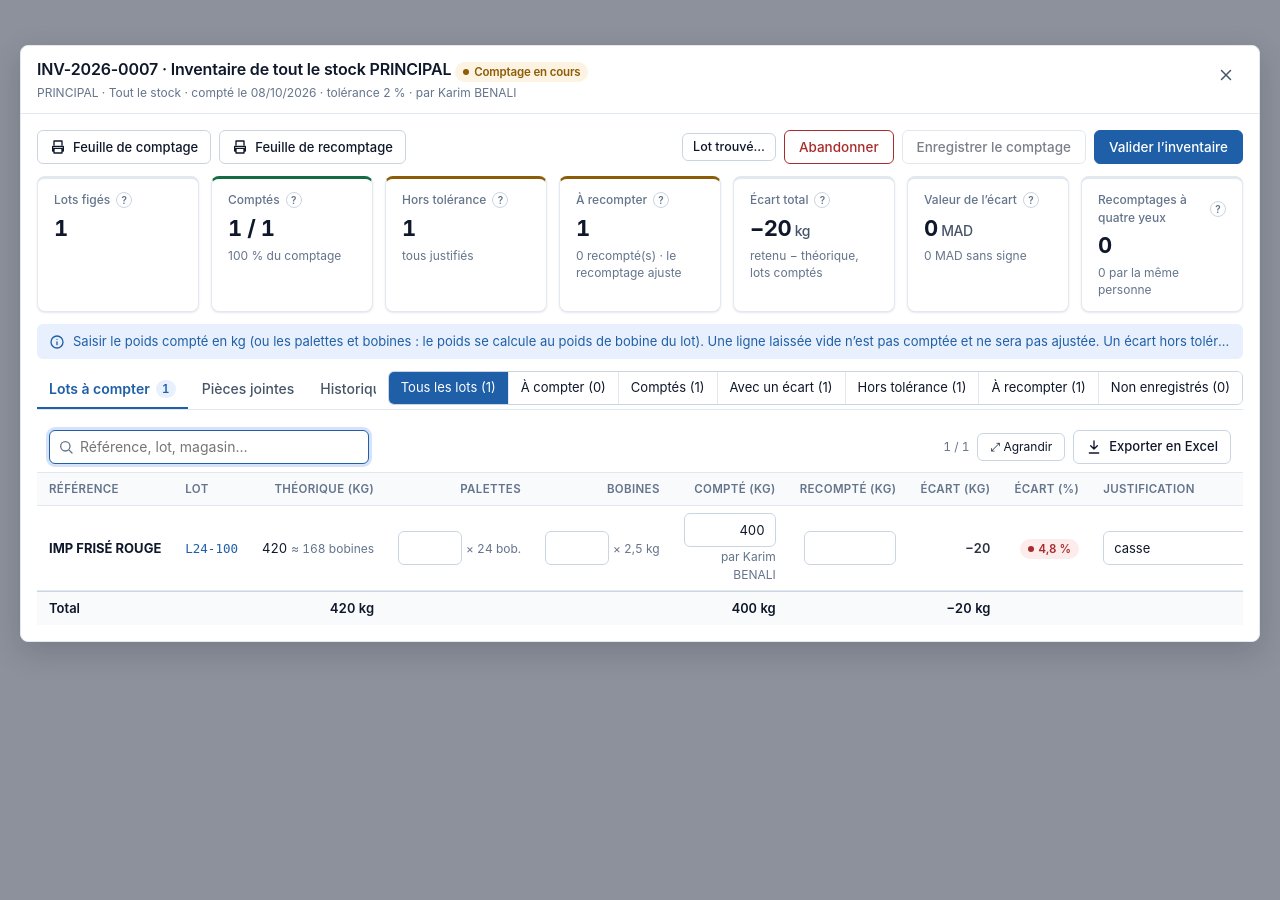
Test: Inventaire : le comptage › un recomptage par la même personne est signalé (ligne, indicateur, confirmation), pas refusé
Type "402" into the field named "Recompté (kg) de IMP FRISÉ ROUGE, lot L24-100" at (850,548), box top-left (804, 531), bottom-right (896, 565)
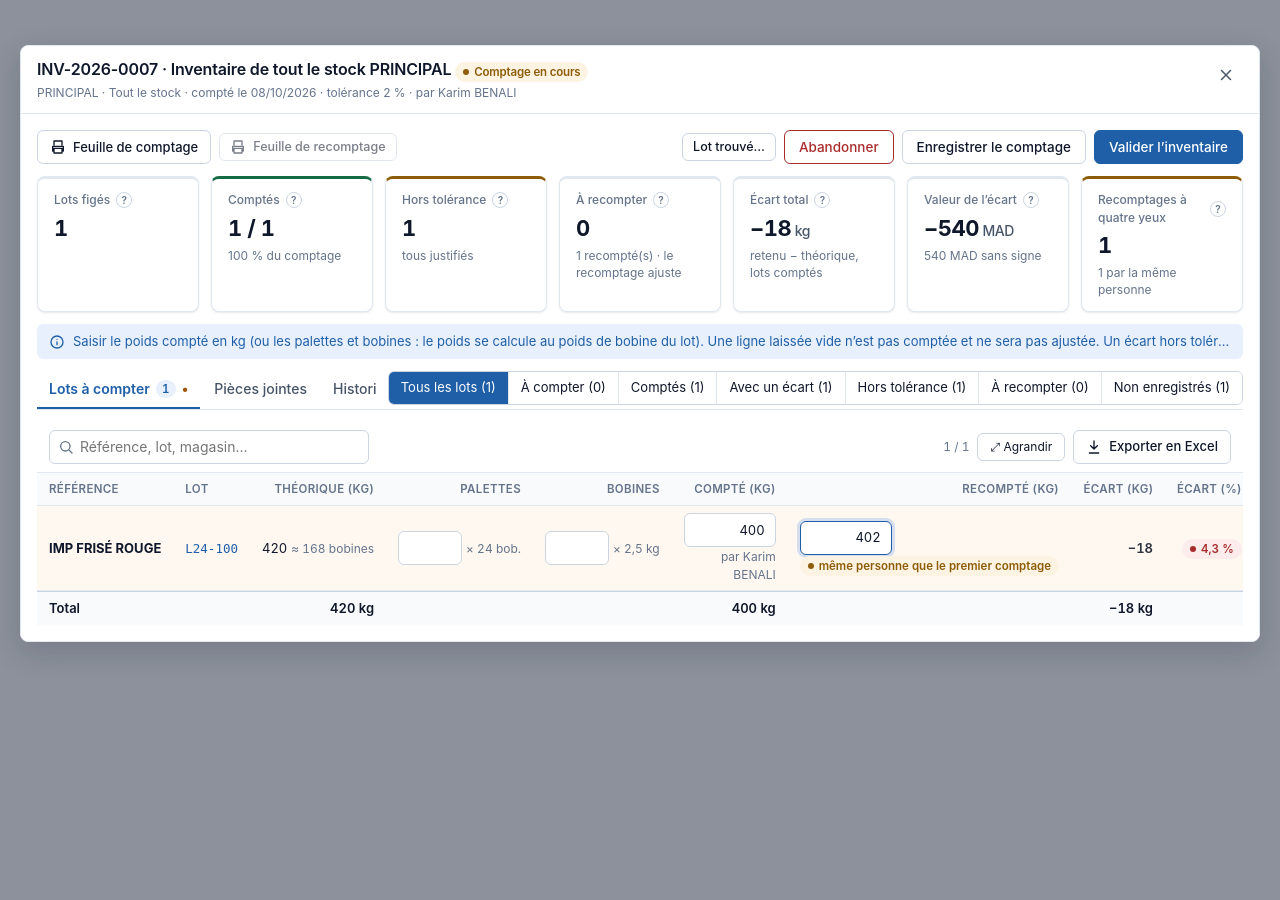
Expected: the text "même personne que le premier comptage" is shown, top-left (800, 556), bottom-right (1059, 576)
Expected: the text "1 par la même personne" is shown, top-left (1098, 265), bottom-right (1176, 298)
Click the button "Valider l’inventaire" at (1168,147), box top-left (1094, 130), bottom-right (1243, 164)
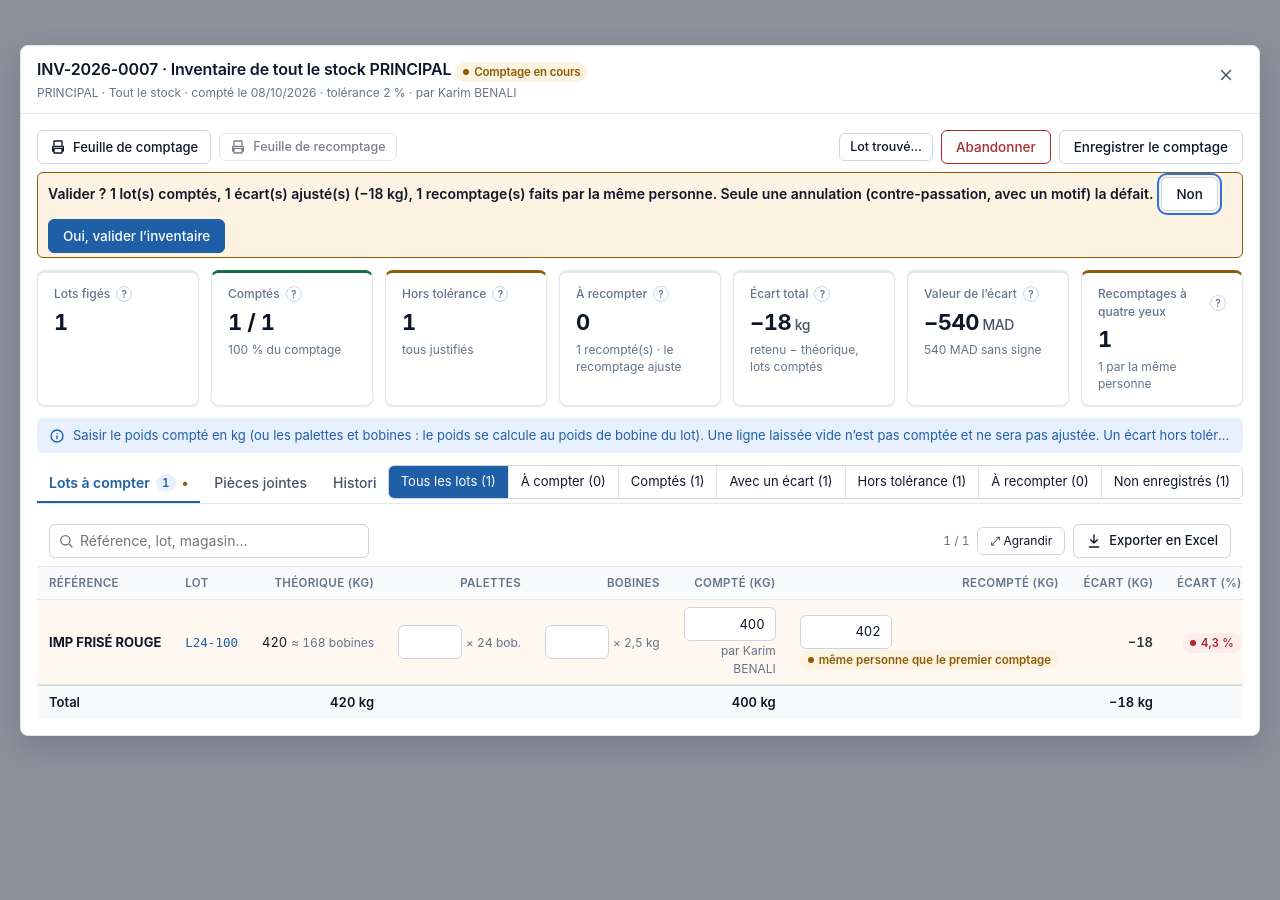
Expected: the text "1 recomptage(s) faits par la même personne" is shown, top-left (48, 185), bottom-right (1153, 202)
Expected: the button "Oui, valider l’inventaire" is enabled, top-left (48, 219), bottom-right (225, 253)
